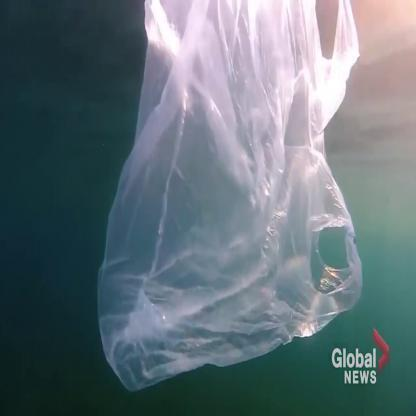Rác: (100, 0, 361, 367)
